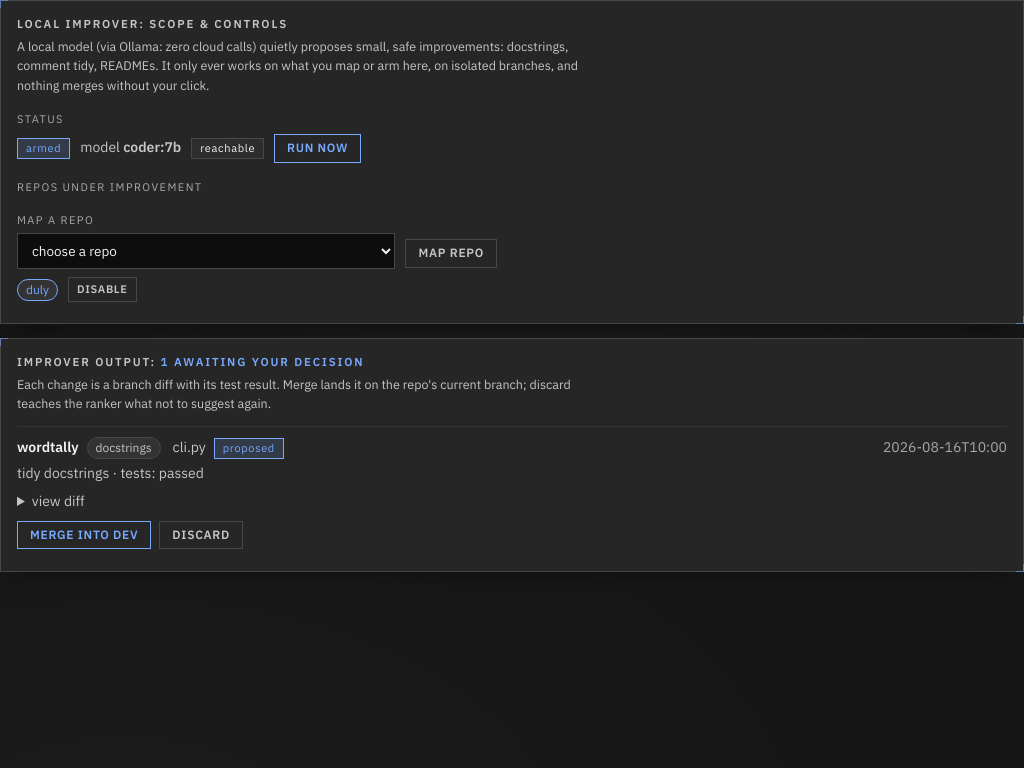
Scenario: ImprovePanel › confirmed merge posts the action to the change endpoint
Click the button "merge into dev" at (84, 535), box [17,521,151,549]
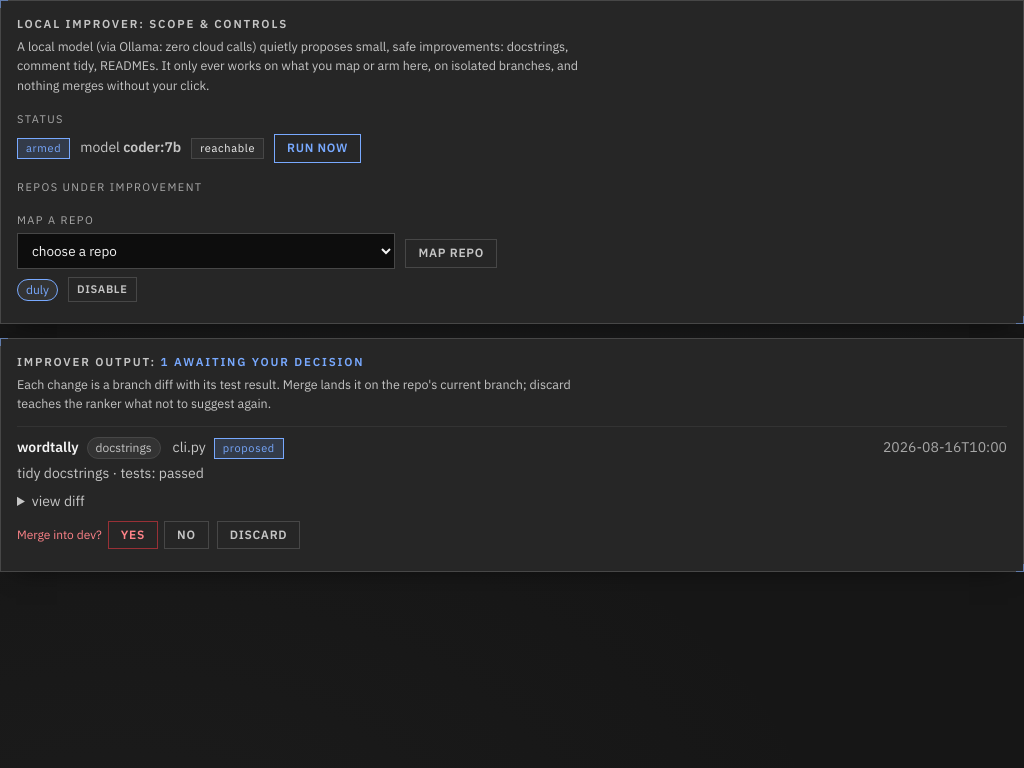
Click the button "Yes" at (133, 535), box [108,521,158,549]
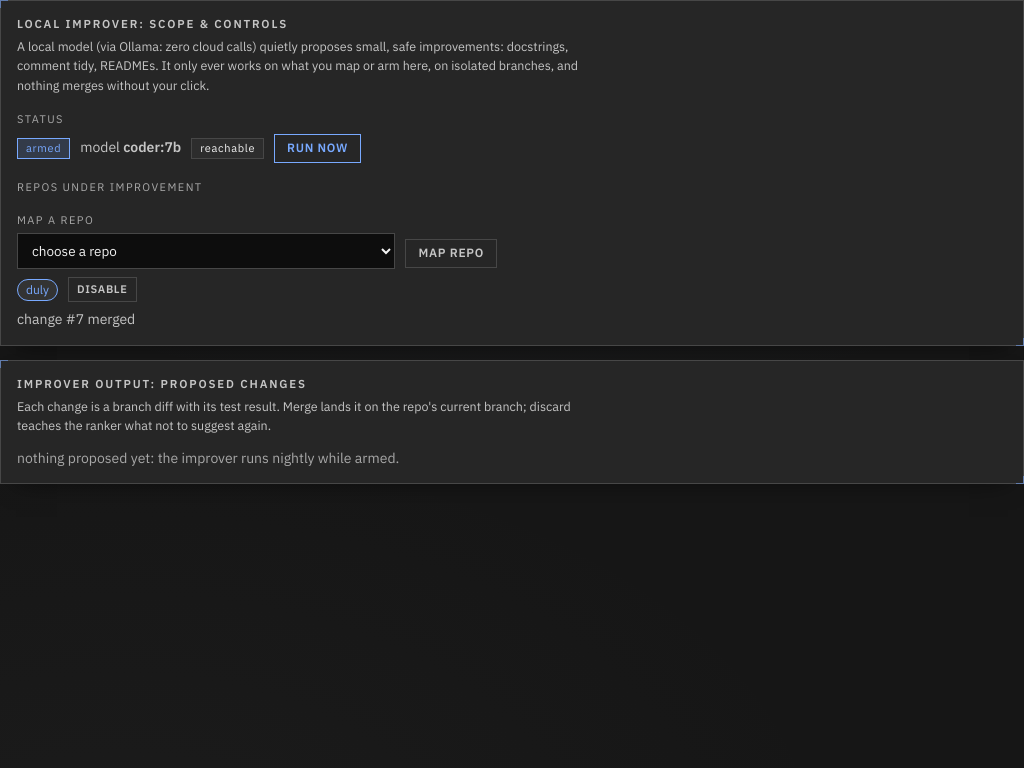
Check: the text "change #7 merged" is shown, box [17,310,135,328]
